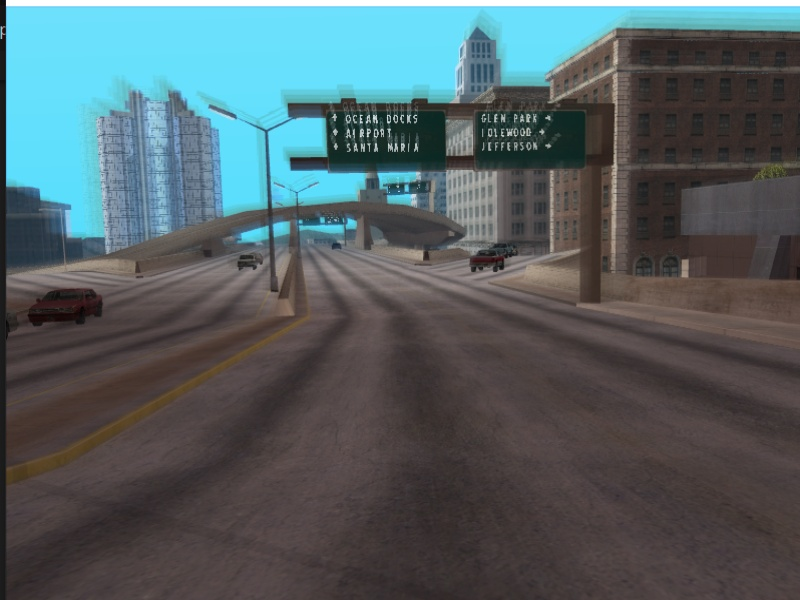pole: (578, 164, 606, 306), (261, 130, 283, 296), (295, 189, 303, 259)
vehicle: (26, 285, 107, 328), (469, 249, 507, 274), (236, 256, 257, 273)
